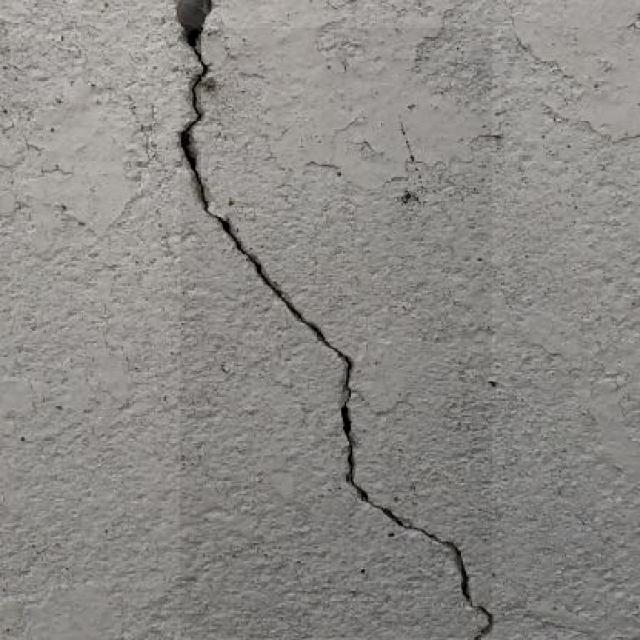diagonal crack: (181, 28, 492, 638)
